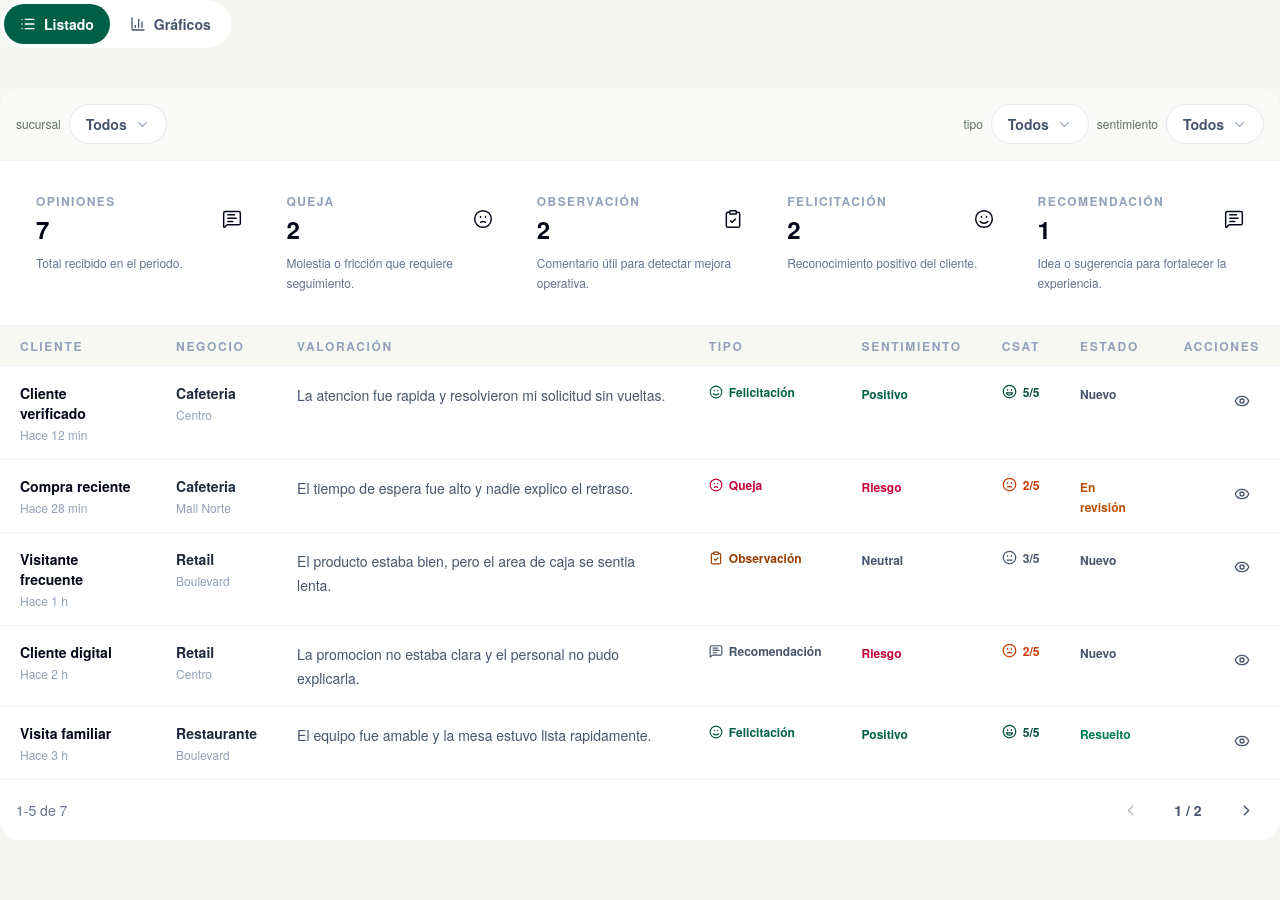
Scenario: DashboardCommentsTable › filters comments by branch
Click the dropdown named "Filtrar por sucursal".
click(118, 124)  # box [69,104,167,144]
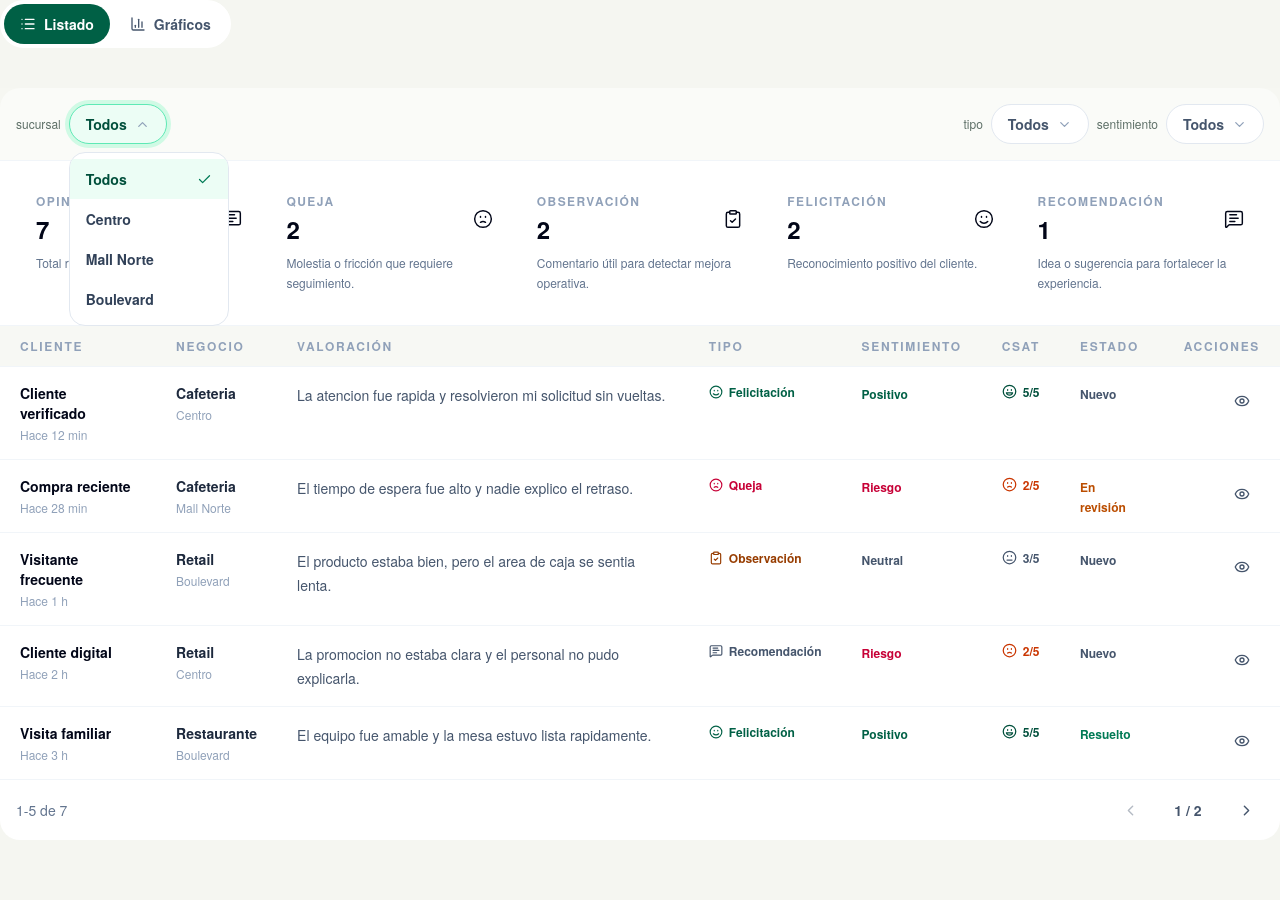
Click the option "Boulevard".
click(120, 299)  # box [86,289,154,309]
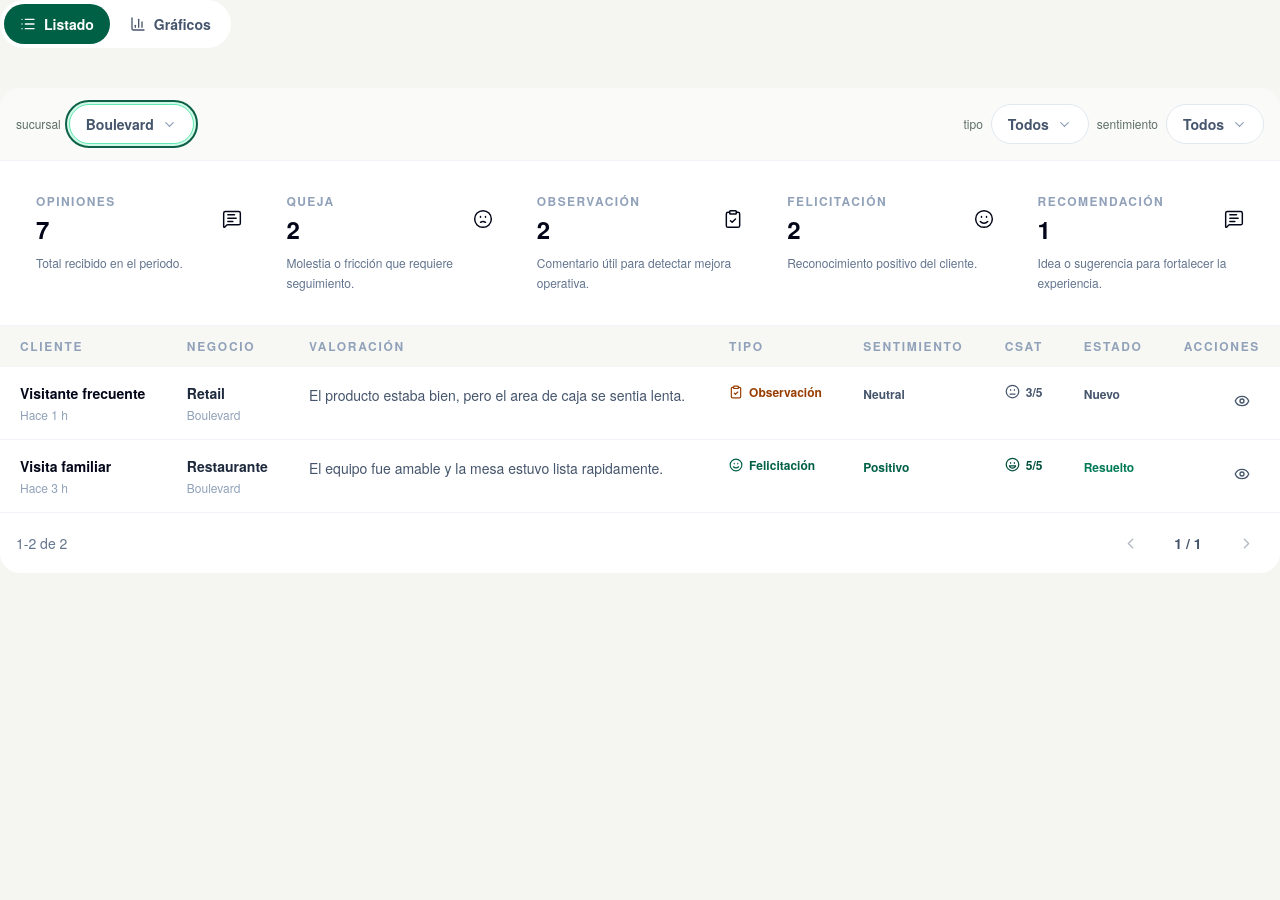
Expected: the text "Visita familiar" is shown, [20,456,111,476]
Expected: the text "1-2 de 2" is shown, [16,533,67,553]
Expected: the text "Cliente verificado" is gone
